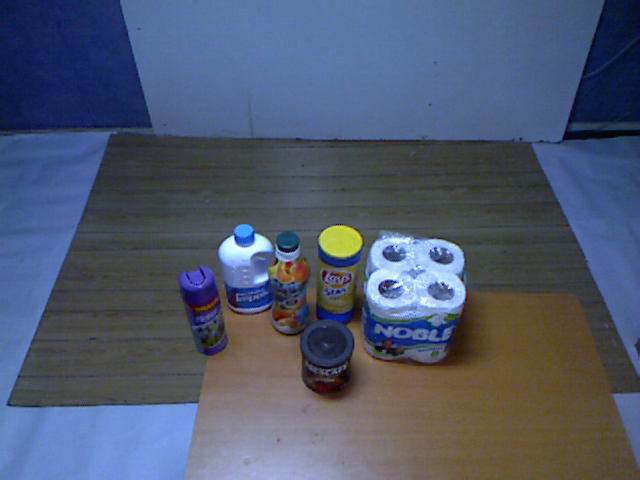aerosol: (174, 260, 230, 363)
cafe: (293, 314, 357, 400)
cloro: (210, 219, 282, 322)
confort: (358, 227, 471, 372)
papas: (307, 222, 368, 329)
yogurt: (262, 225, 312, 344)
